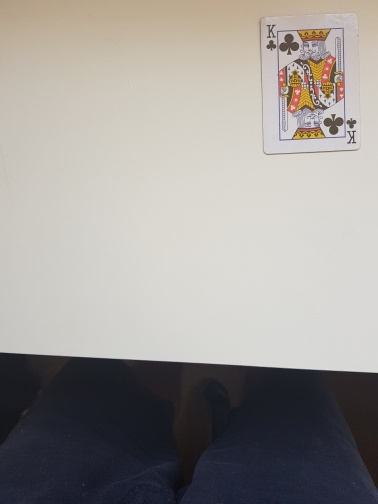king: (259, 11, 362, 156)
